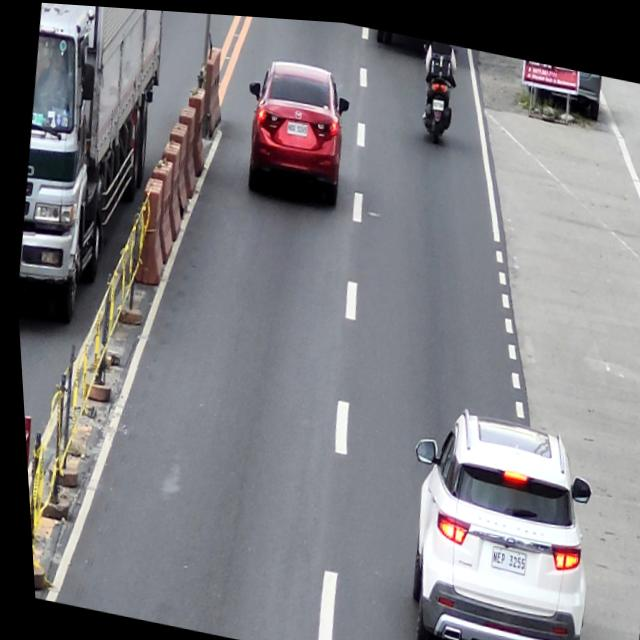Car: (376, 390, 607, 640), (233, 49, 359, 206)
License-Plate: (482, 540, 522, 571), (284, 116, 308, 134), (431, 92, 444, 106)
Motorcycle: (412, 36, 463, 143)
Truck: (0, 0, 185, 343)
